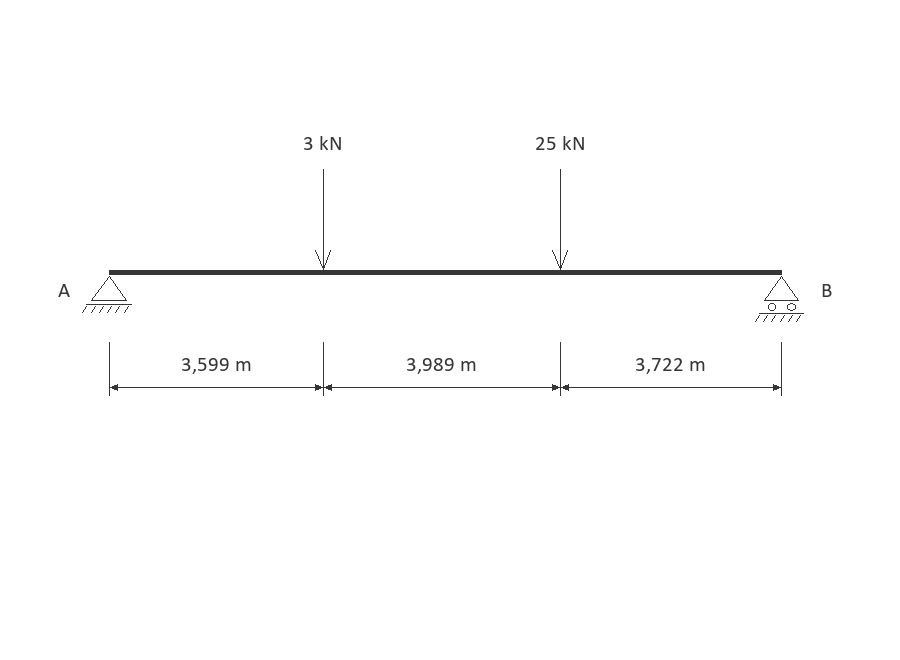pin_support: (82, 276, 132, 313)
point_load: (315, 169, 331, 270), (552, 169, 568, 270)
roller_support: (755, 276, 804, 322)
